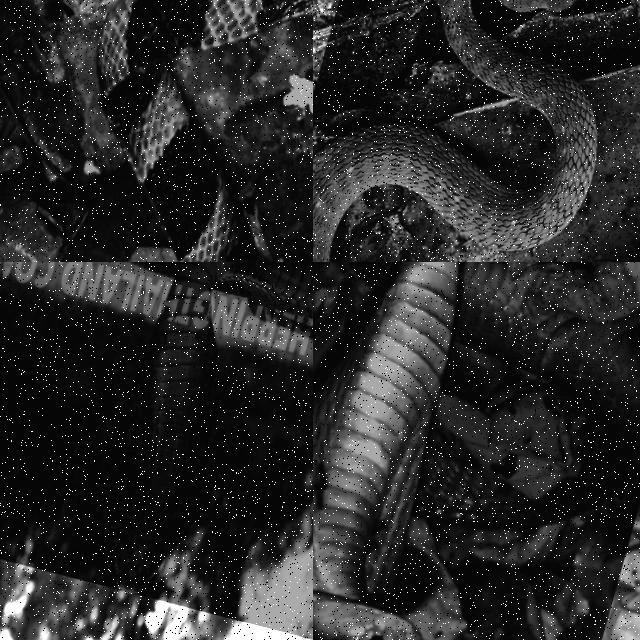Bungarus fasciatus: (97, 0, 312, 261)
Naja siamensis: (313, 262, 639, 639), (109, 262, 312, 592)
Trimeresurus: (313, 0, 596, 261)
snake: (313, 262, 639, 639), (313, 0, 596, 261), (109, 262, 312, 592), (97, 0, 312, 261)
